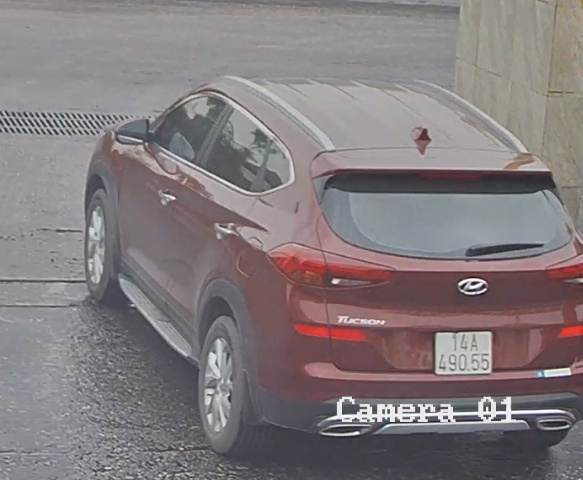vehicle plate: (430, 326, 493, 374)
